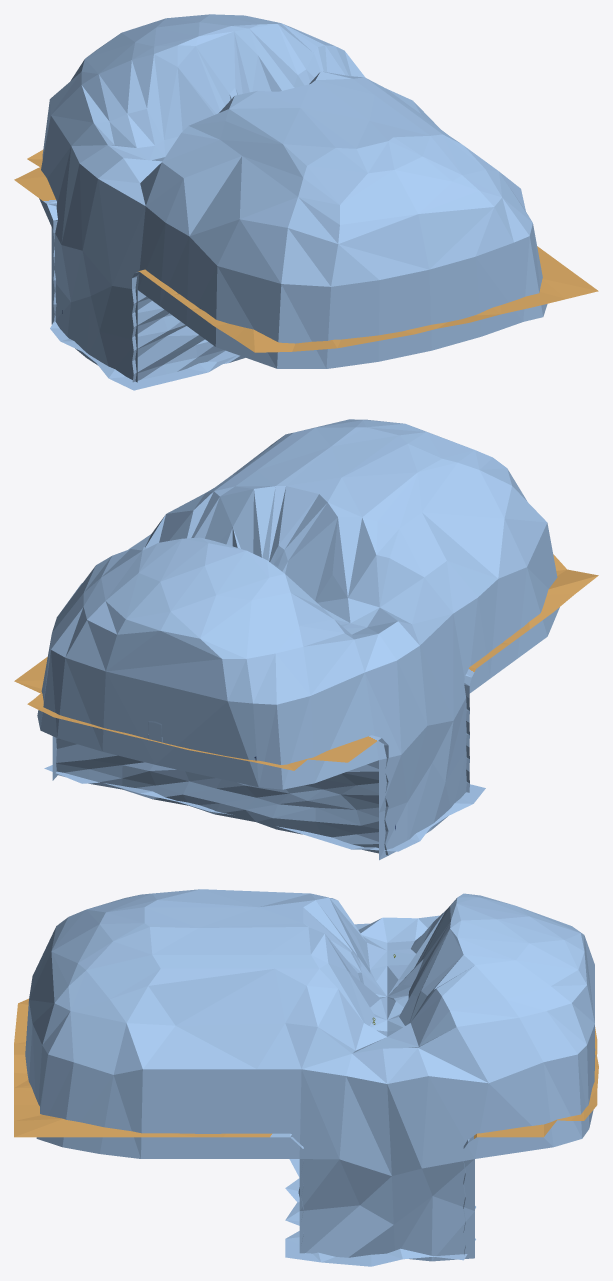
The model's file is TristansRoom.fbx.
3 views of the same model, one above another, from view 1: azimuth 30°, elevation 25°; view 2: azimuth 150°, elevation 25°; view 3: azimuth 270°, elevation 25° (orthographic). The views are drawn at different scales.
Parts seen in each view (by area): view 1: walls2; view 2: walls2; view 3: walls2.
Boxes of the visible parts, bbox=[...] form: walls2: bbox=[14, 14, 598, 390]; walls2: bbox=[14, 419, 598, 860]; walls2: bbox=[14, 889, 598, 1266].
Bounding box in the file's own units: 161 × 112 × 222.
